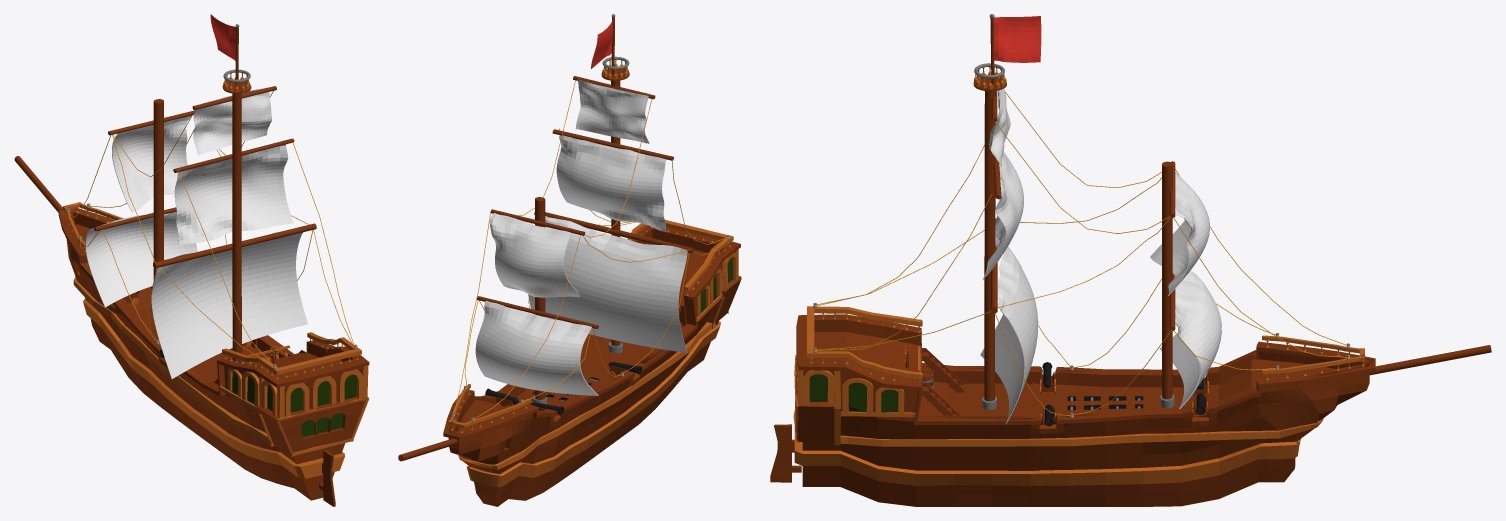
File: ship.glb
3 renders of one model, left to right at view 1: azimuth 30°, elevation 25°; view 2: azimuth 150°, elevation 25°; view 3: azimuth 270°, elevation 25°, orthographic. The views are drawn at different scales.
Visible parts, largest first — view 1: Ship, Cords, Banner; view 2: Ship, Cords, Banner; view 3: Ship, Cords, Banner.
Boxes of the visible parts, <box> form: Ship: <box>14,24,369,506</box>; Cords: <box>68,91,354,367</box>; Banner: <box>210,14,235,60</box>; Ship: <box>398,14,741,506</box>; Cords: <box>454,80,728,418</box>; Banner: <box>591,18,613,68</box>; Ship: <box>770,14,1491,506</box>; Cords: <box>813,91,1346,415</box>; Banner: <box>993,16,1041,62</box>.
Bounding box in the file's own units: 17.82 × 45.6 × 60.82.
